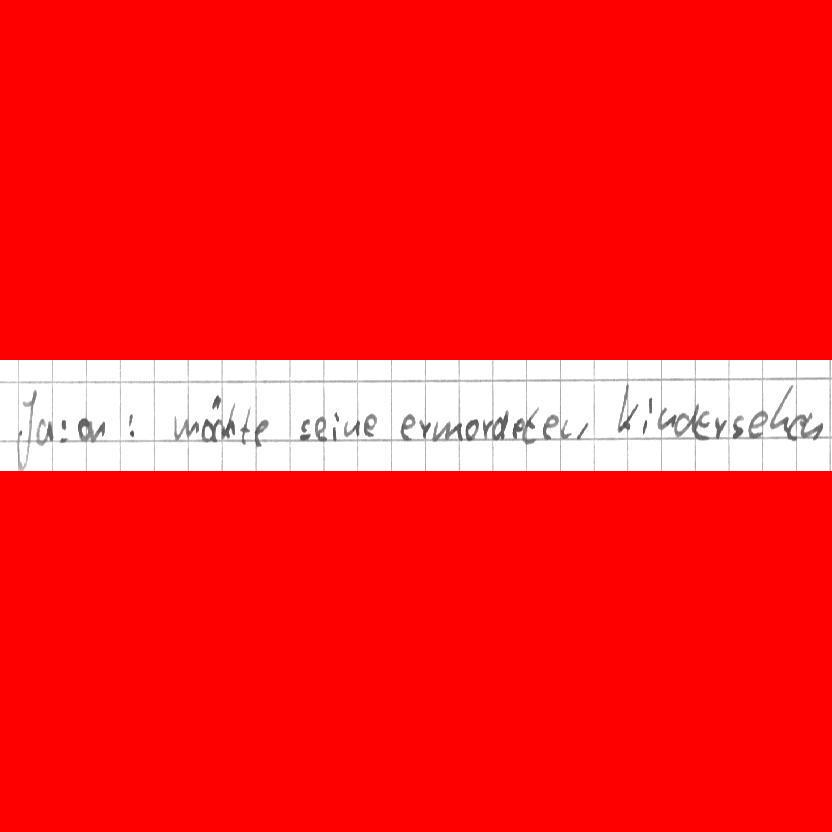Char: (14, 387, 37, 471), (767, 383, 793, 431), (615, 384, 639, 432), (202, 391, 221, 442), (673, 400, 700, 435), (170, 413, 199, 442), (432, 417, 463, 443), (797, 411, 823, 442), (520, 406, 540, 444), (743, 408, 766, 441), (555, 417, 586, 440), (639, 393, 654, 435), (239, 402, 253, 446), (490, 408, 509, 440), (397, 411, 417, 441), (223, 400, 238, 439), (35, 417, 55, 446), (655, 404, 678, 428), (694, 409, 711, 440), (252, 419, 270, 448), (541, 413, 560, 440), (787, 412, 806, 438), (712, 412, 730, 439), (313, 413, 328, 443), (88, 418, 106, 443), (463, 417, 480, 441), (341, 417, 361, 437), (362, 411, 377, 437), (297, 416, 313, 440), (730, 413, 745, 438), (58, 417, 71, 445), (76, 416, 90, 442), (124, 411, 137, 438), (417, 417, 432, 440), (211, 417, 224, 443), (330, 411, 341, 441), (481, 416, 493, 440), (513, 417, 525, 438)
